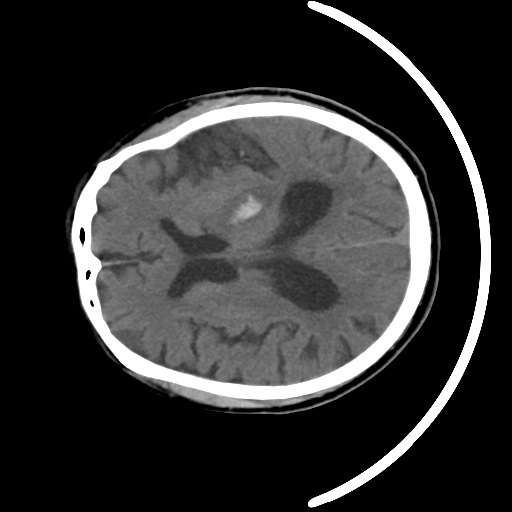a: (205, 172, 289, 239)
